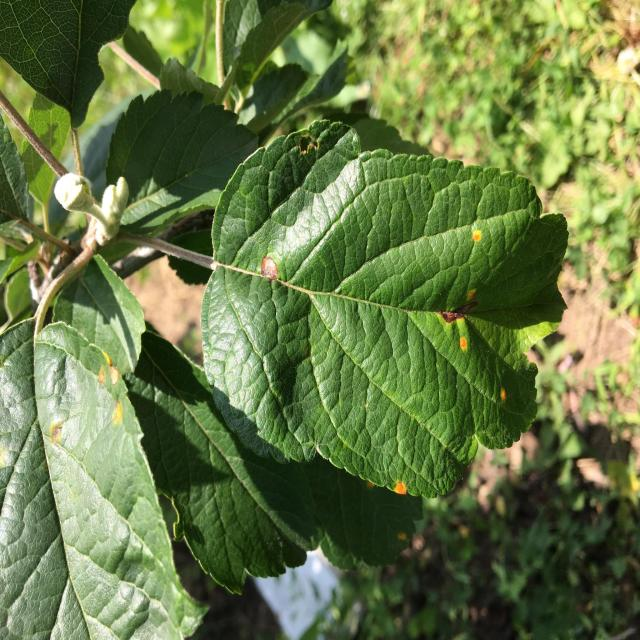Black Rot: (241, 241, 287, 291)
Rust: (89, 346, 122, 387), (106, 393, 132, 438), (383, 477, 410, 506), (492, 379, 513, 414), (450, 324, 472, 355), (468, 220, 486, 252), (466, 276, 482, 308)
